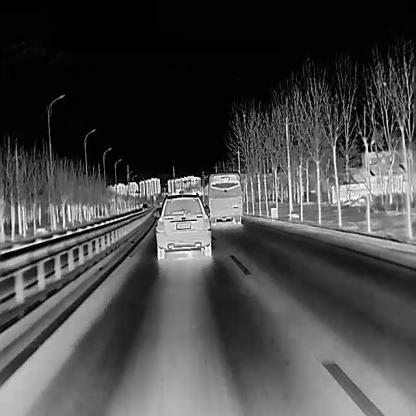bus: (201, 170, 240, 222)
car: (152, 191, 210, 258), (140, 202, 148, 210)
